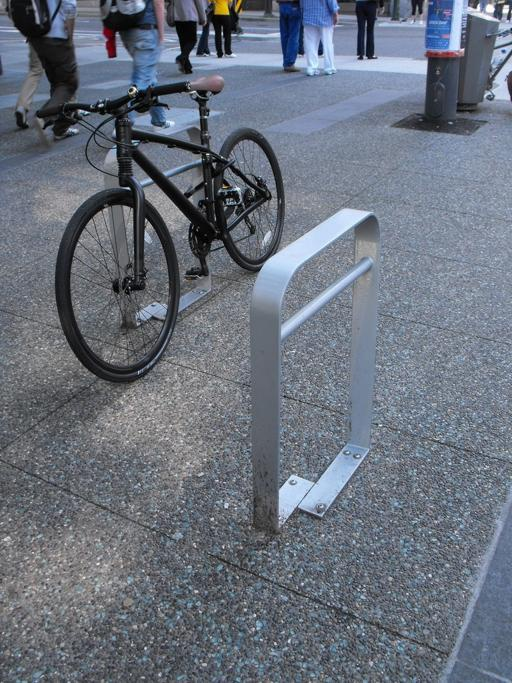non-vehicle: (35, 75, 285, 381), (460, 28, 512, 101)
